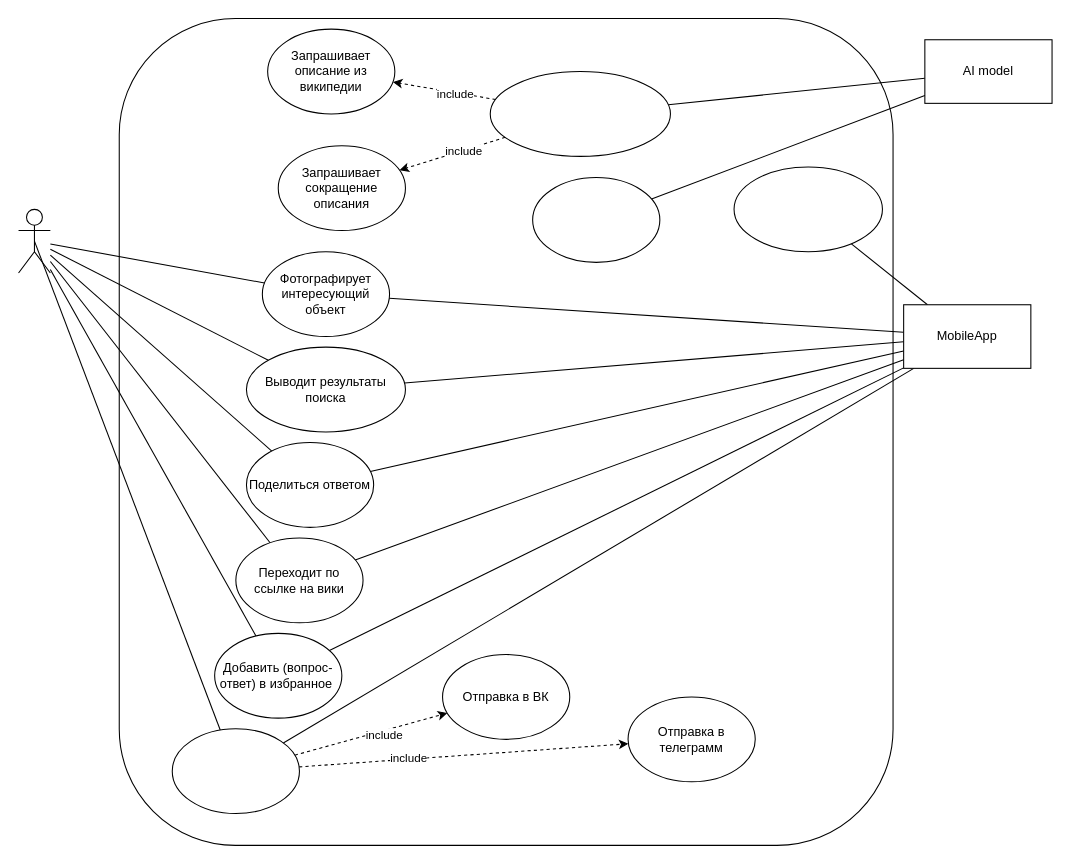
This 1071x864 diagram has some shape labels left out. The centre of each missing label's shape, as x and y in pixels:
"User" goes at point 33,240.
"Определяет что за объект прислал пользователь" goes at point 579,113.
"Отправка ответа выбранным способом" goes at point 235,771.
"Отправляет модели фотографию" goes at point 807,209.
"Присылает ответ мобильному приложению" goes at point 596,219.
